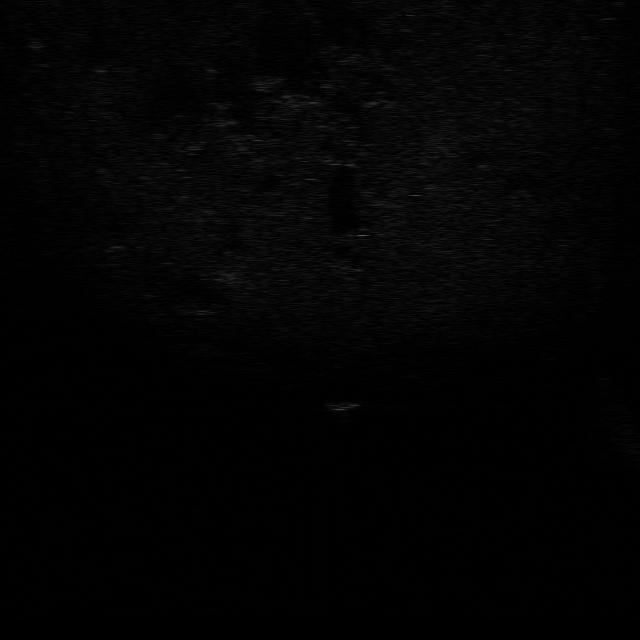square cage: (321, 398, 360, 414)
